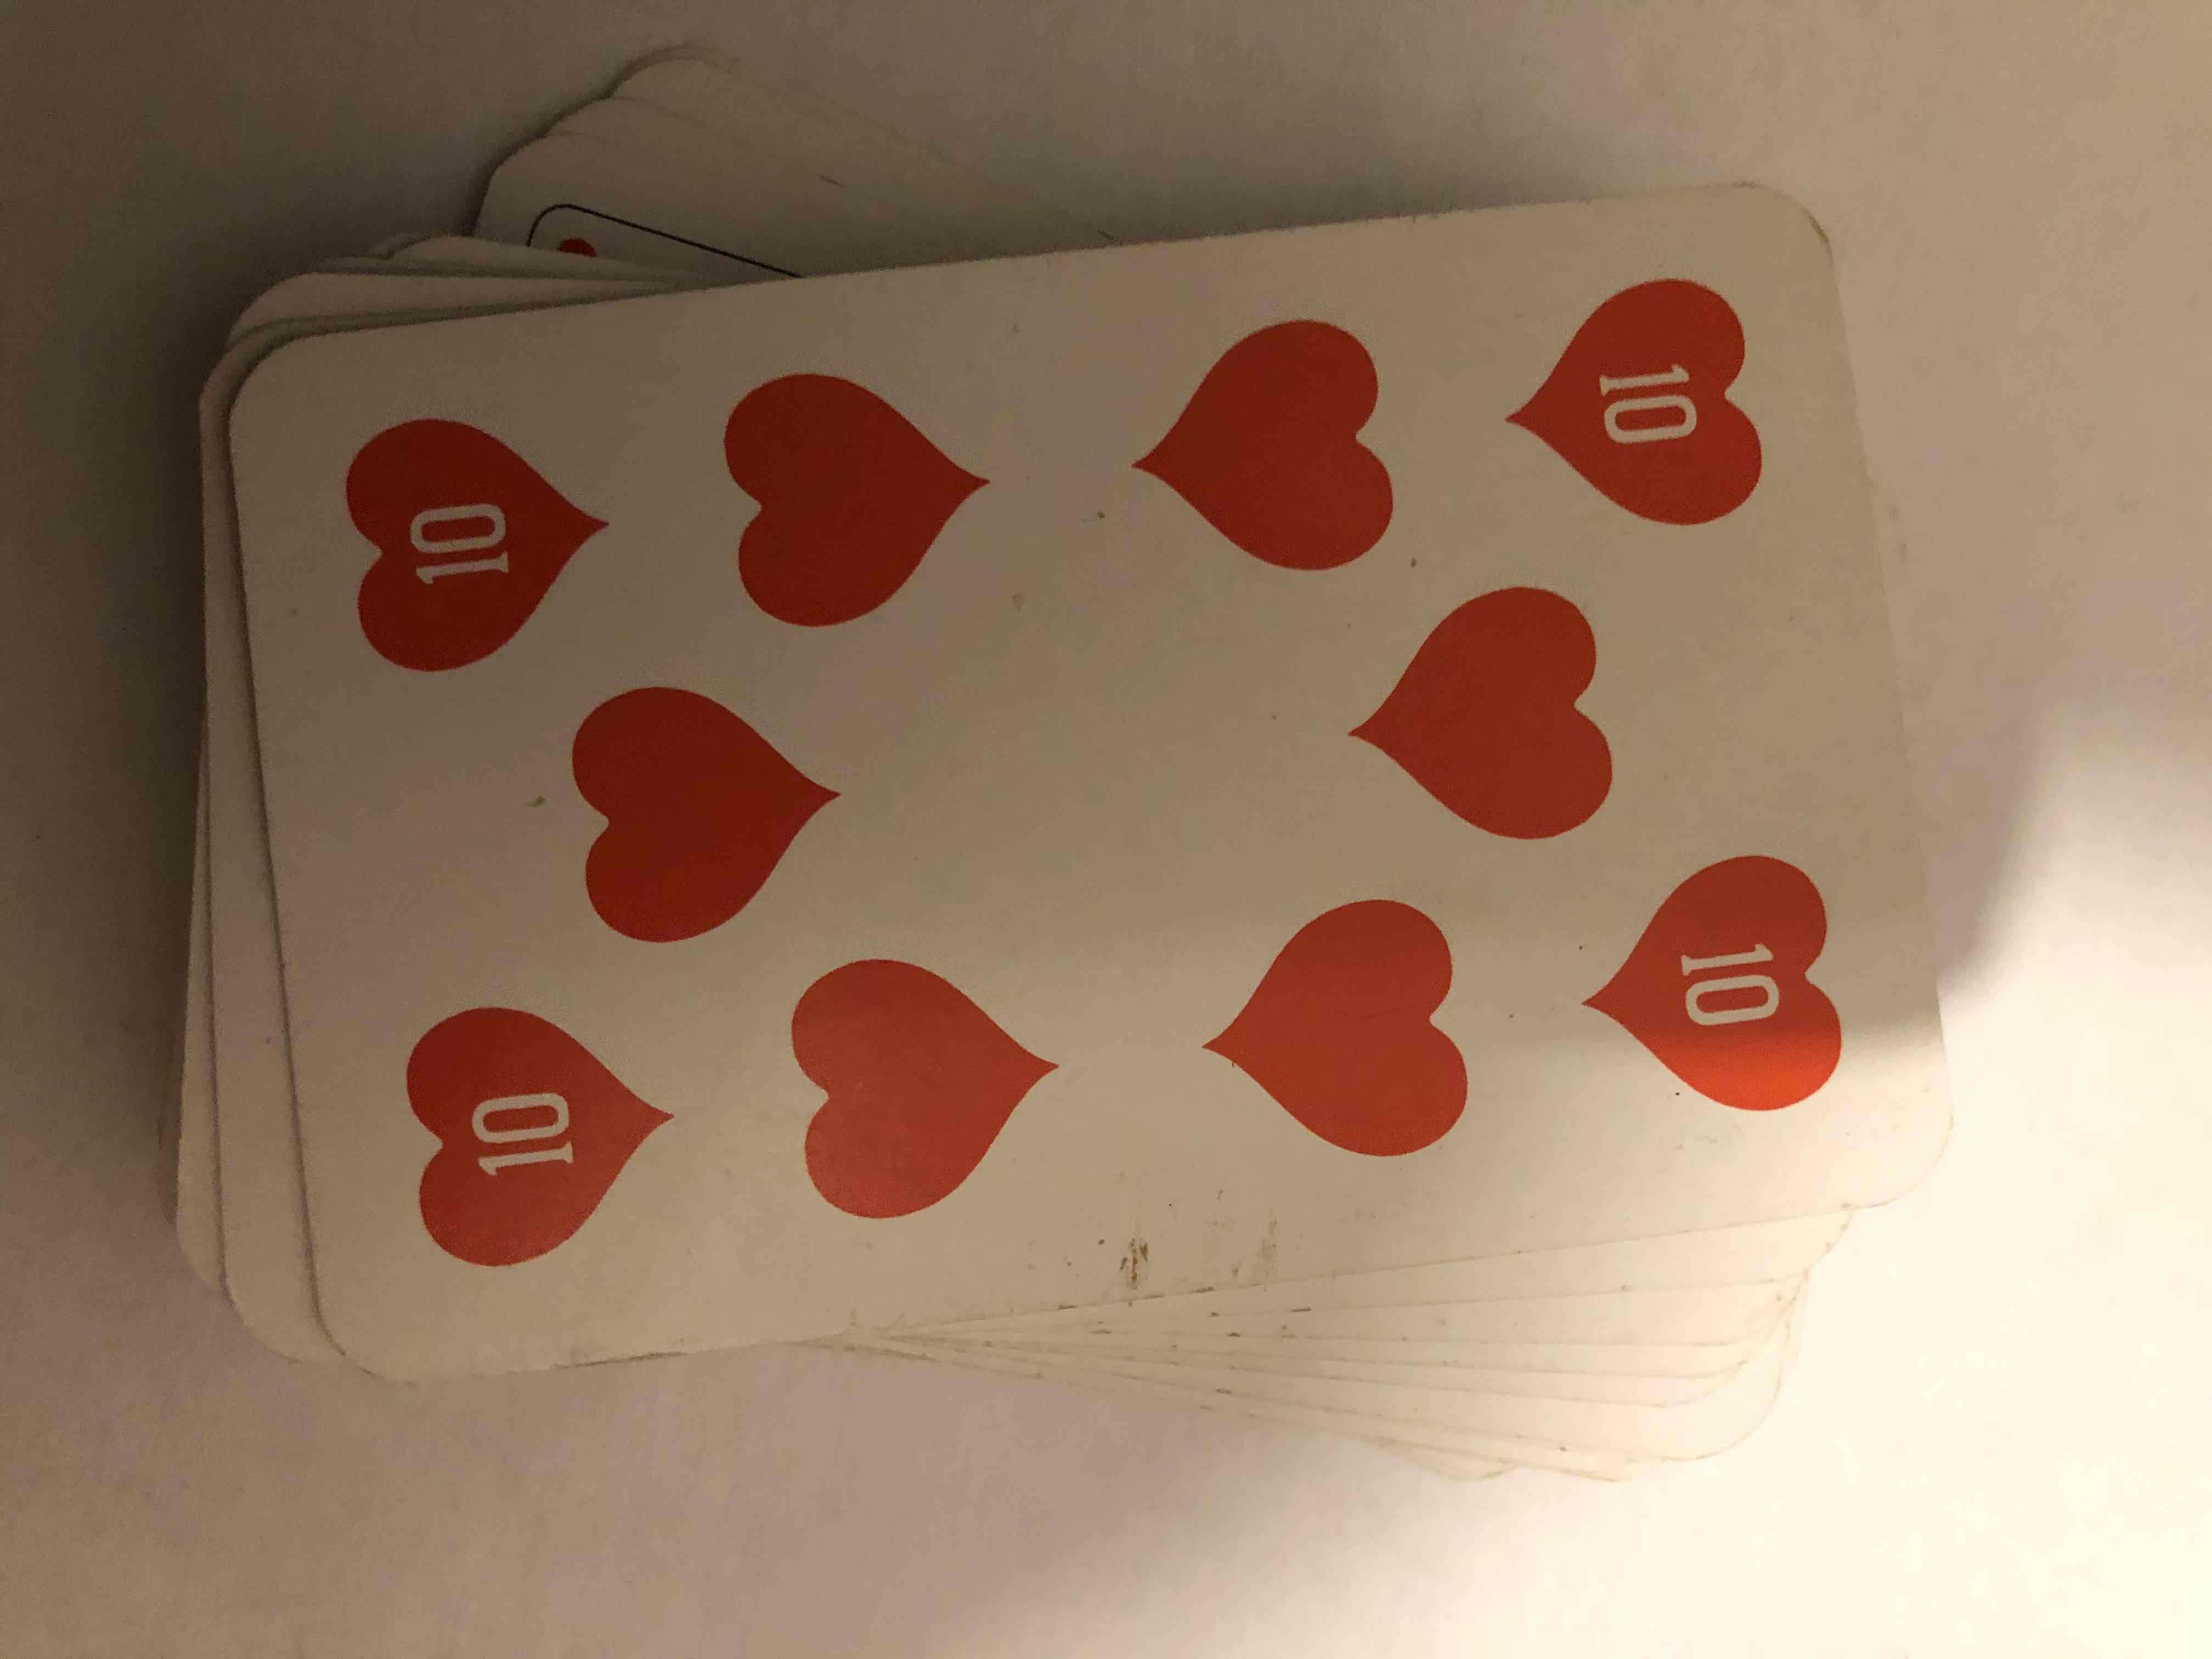hearts10: (286, 277, 1980, 1345)
